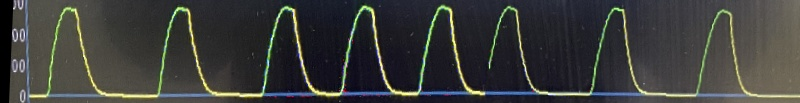normal_volume: (27, 0, 800, 103)
